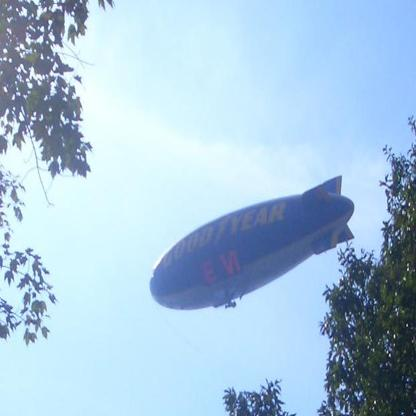Airship: (149, 174, 355, 310)
